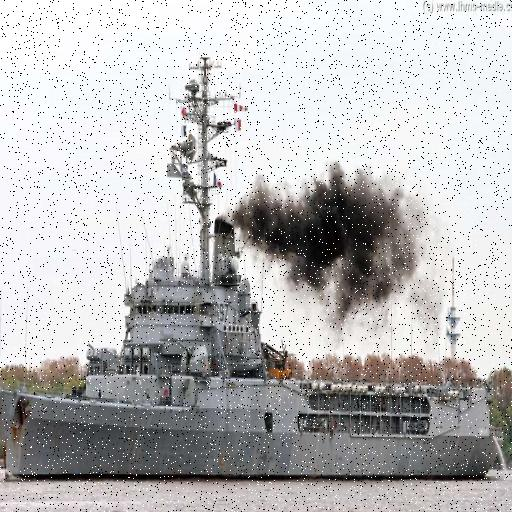Portanaves: (1, 34, 510, 491)
